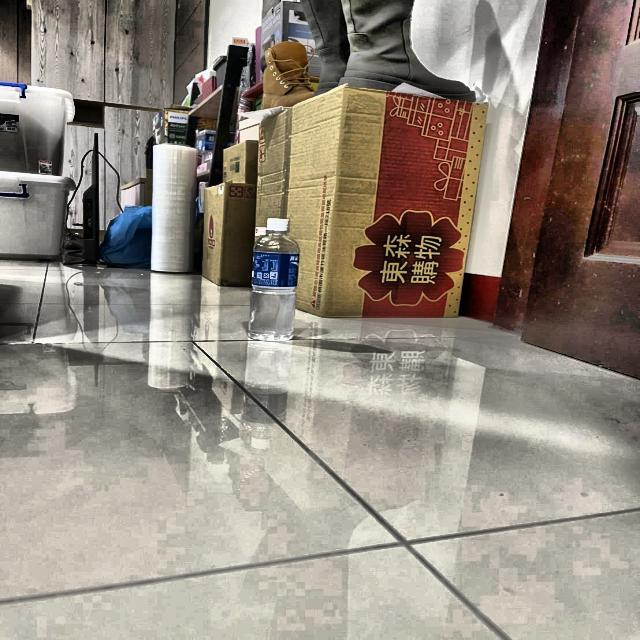Bottles: (244, 215, 312, 352)
